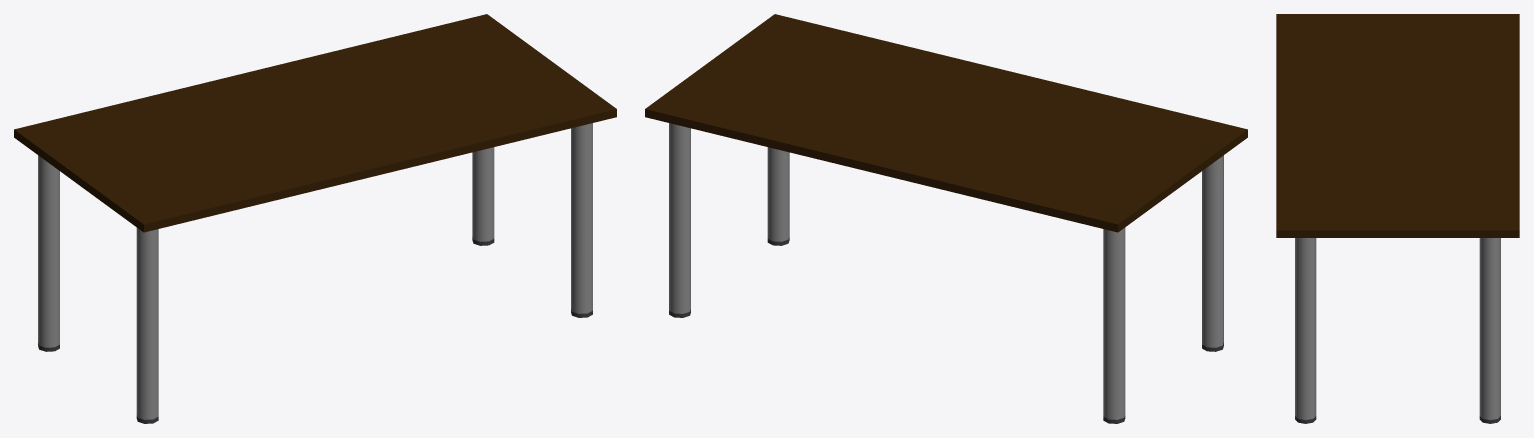
The model's file is ComputerDesk_02_snaps001.fbx.
3 views of the same model, side by side, from view 1: azimuth 30°, elevation 25°; view 2: azimuth 150°, elevation 25°; view 3: azimuth 270°, elevation 25° (orthographic). The views are drawn at different scales.
Visible parts, largest first — view 1: ComputerDesk_02_snaps001; view 2: ComputerDesk_02_snaps001; view 3: ComputerDesk_02_snaps001.
Part boxes in pixels (left/top/right/bottom): ComputerDesk_02_snaps001: left=14, top=14, right=616, bottom=423; ComputerDesk_02_snaps001: left=645, top=14, right=1247, bottom=423; ComputerDesk_02_snaps001: left=1276, top=14, right=1519, bottom=423.
Size of the model in its own units: 191 by 81.25 by 90.62.
